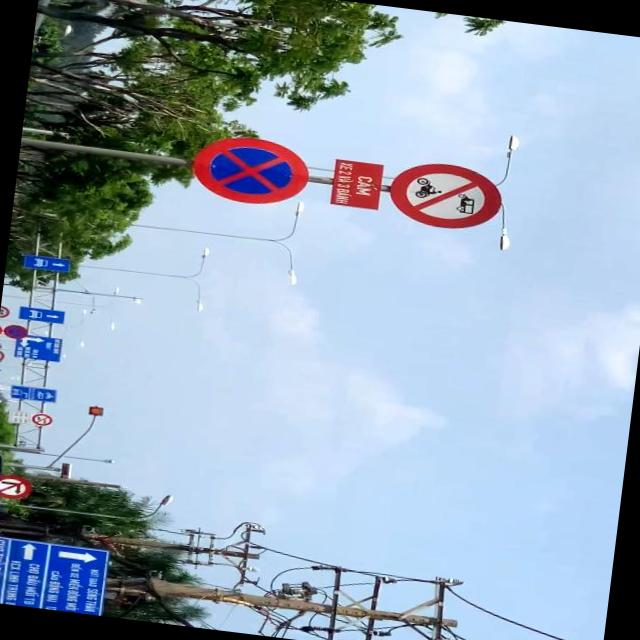P-104: (383, 159, 502, 234)
P-130: (188, 130, 314, 210)
